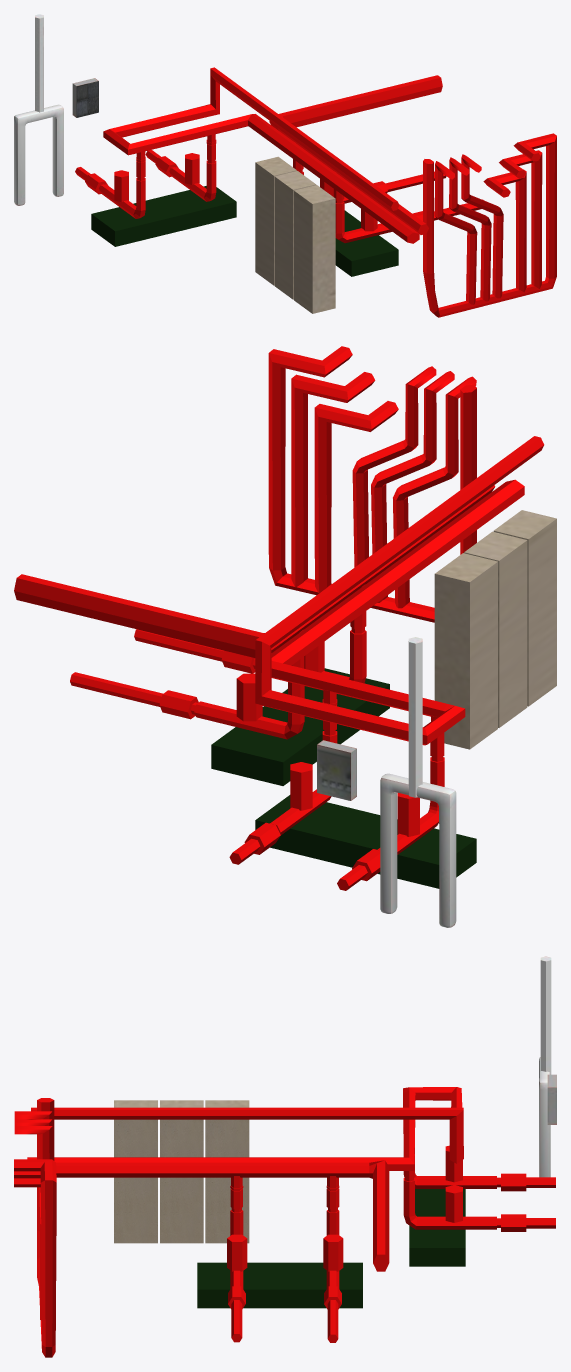
3 renders of one model, top to bottom at view 1: azimuth 30°, elevation 25°; view 2: azimuth 150°, elevation 25°; view 3: azimuth 270°, elevation 25°, orthographic. The views are drawn at different scales.
Parts seen in each view (by area): view 1: SB_F1F_shuibeng6, SB_F1F_shuibeng3, SB_F1F_dizuo, SB_F1F_konghzhi3, SB_F1F_shuibeng5, SB_F1F_shuibeng4, SB_F1F_shuibeng1, SB_F1F_konghzhi2, SB_F1F_konghzhi1, SB_F1F_shuibeng2; view 2: SB_F1F_shuibeng6, SB_F1F_shuibeng3, SB_F1F_dizuo, SB_F1F_konghzhi1, SB_F1F_shuibeng5, SB_F1F_shuibeng2, SB_F1F_shuibeng4, SB_F1F_shuibeng1, SB_F1F_konghzhi3, SB_F1F_konghzhi2; view 3: SB_F1F_shuibeng3, SB_F1F_dizuo, SB_F1F_shuibeng4, SB_F1F_shuibeng6, SB_F1F_shuibeng1, SB_F1F_konghzhi3, SB_F1F_konghzhi2, SB_F1F_shuibeng2, SB_F1F_konghzhi1, SB_F1F_shuibeng5.
Part boxes in pixels (left/top/right/bottom): SB_F1F_shuibeng6: left=423, top=133, right=556, bottom=317; SB_F1F_shuibeng3: left=103, top=67, right=419, bottom=243; SB_F1F_dizuo: left=91, top=186, right=398, bottom=276; SB_F1F_konghzhi3: left=294, top=185, right=335, bottom=313; SB_F1F_shuibeng5: left=14, top=14, right=98, bottom=205; SB_F1F_shuibeng4: left=269, top=75, right=442, bottom=234; SB_F1F_shuibeng1: left=75, top=134, right=216, bottom=218; SB_F1F_konghzhi2: left=274, top=171, right=316, bottom=299; SB_F1F_konghzhi1: left=255, top=156, right=296, bottom=285; SB_F1F_shuibeng2: left=293, top=142, right=482, bottom=243; SB_F1F_shuibeng6: left=268, top=346, right=476, bottom=622; SB_F1F_shuibeng3: left=255, top=436, right=544, bottom=745; SB_F1F_dizuo: left=211, top=668, right=476, bottom=888; SB_F1F_konghzhi1: left=434, top=553, right=497, bottom=749; SB_F1F_shuibeng5: left=317, top=637, right=456, bottom=927; SB_F1F_shuibeng2: left=70, top=584, right=366, bottom=739; SB_F1F_shuibeng4: left=14, top=485, right=495, bottom=657; SB_F1F_shuibeng1: left=229, top=689, right=444, bottom=890; SB_F1F_konghzhi3: left=493, top=510, right=556, bottom=706; SB_F1F_konghzhi2: left=464, top=531, right=527, bottom=727; SB_F1F_shuibeng3: left=27, top=1087, right=463, bottom=1170; SB_F1F_dizuo: left=197, top=1189, right=465, bottom=1308; SB_F1F_shuibeng4: left=56, top=1160, right=389, bottom=1271; SB_F1F_shuibeng6: left=14, top=1098, right=56, bottom=1357; SB_F1F_shuibeng1: left=403, top=1145, right=555, bottom=1231; SB_F1F_konghzhi3: left=114, top=1100, right=157, bottom=1243; SB_F1F_konghzhi2: left=160, top=1100, right=203, bottom=1243; SB_F1F_shuibeng2: left=227, top=1176, right=343, bottom=1342; SB_F1F_konghzhi1: left=205, top=1100, right=249, bottom=1243; SB_F1F_shuibeng5: left=539, top=956, right=556, bottom=1177.
Bounding box in the file's own units: 7987 × 4143 × 8964.
5 materials, 3 textured.
